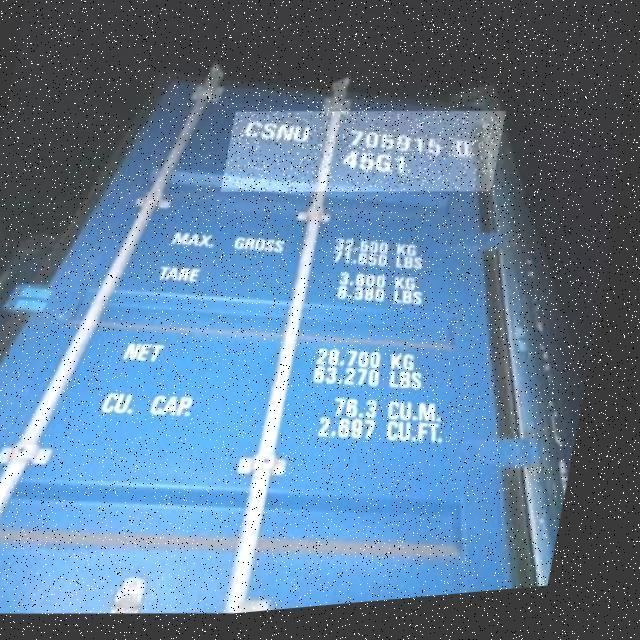container_number_h: (223, 96, 511, 220)
